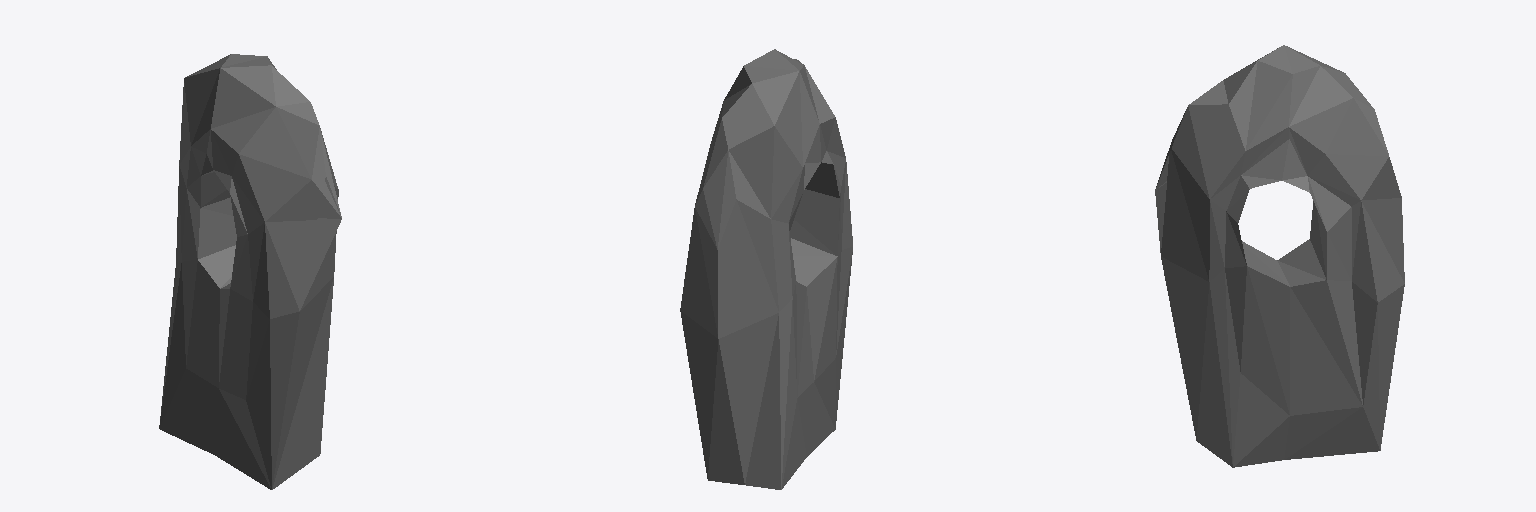
Rendered from Rock_Rune_002.obj.
The picture shows the model from 3 angles: view 1: azimuth 30°, elevation 25°; view 2: azimuth 150°, elevation 25°; view 3: azimuth 270°, elevation 25°; orthographic projection.
Parts seen in each view (by area): view 1: polySurface5 polySurface4 polySurface2 Piedra_de__mierda:pCylind; view 2: polySurface5 polySurface4 polySurface2 Piedra_de__mierda:pCylind; view 3: polySurface5 polySurface4 polySurface2 Piedra_de__mierda:pCylind.
Part boxes in pixels (left/top/right/bottom): polySurface5 polySurface4 polySurface2 Piedra_de__mierda:pCylind: left=159, top=54, right=341, bottom=489; polySurface5 polySurface4 polySurface2 Piedra_de__mierda:pCylind: left=680, top=49, right=852, bottom=489; polySurface5 polySurface4 polySurface2 Piedra_de__mierda:pCylind: left=1155, top=45, right=1404, bottom=467.
Bounding box in the file's own units: 51.65 × 177 × 101.